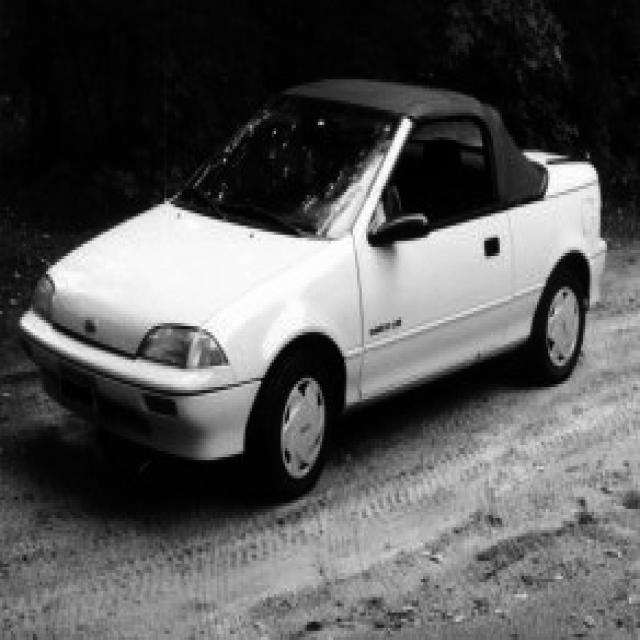car: (15, 73, 607, 500)
